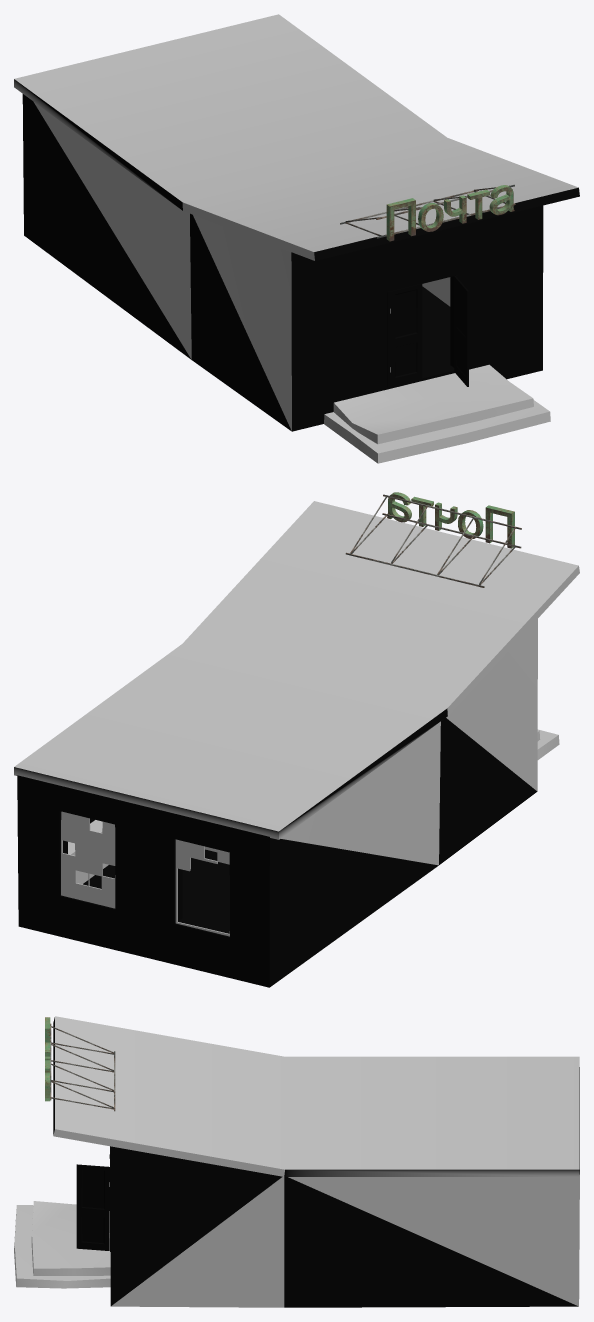
Rendered from Post_01.FBX.
The picture shows the model from 3 angles, top to bottom: view 1: azimuth 30°, elevation 25°; view 2: azimuth 150°, elevation 25°; view 3: azimuth 270°, elevation 25°; orthographic projection. The views are drawn at different scales.
Visible parts, largest first — view 1: Post_01, Post_01Door, Post_01Text; view 2: Post_01, Post_01_Windows, Post_01Text; view 3: Post_01, Post_01Door, Post_01Text.
Part boxes in pixels (x1,y1,x2,y2): Post_01: (14, 14, 579, 463); Post_01Door: (387, 275, 468, 387); Post_01Text: (340, 184, 515, 241); Post_01: (14, 501, 579, 987); Post_01_Windows: (61, 811, 229, 936); Post_01Text: (345, 492, 521, 587); Post_01: (14, 1016, 579, 1307); Post_01Door: (76, 1146, 110, 1251); Post_01Text: (45, 1017, 115, 1111).
Size of the model in its own units: 592 by 1254 by 510.
